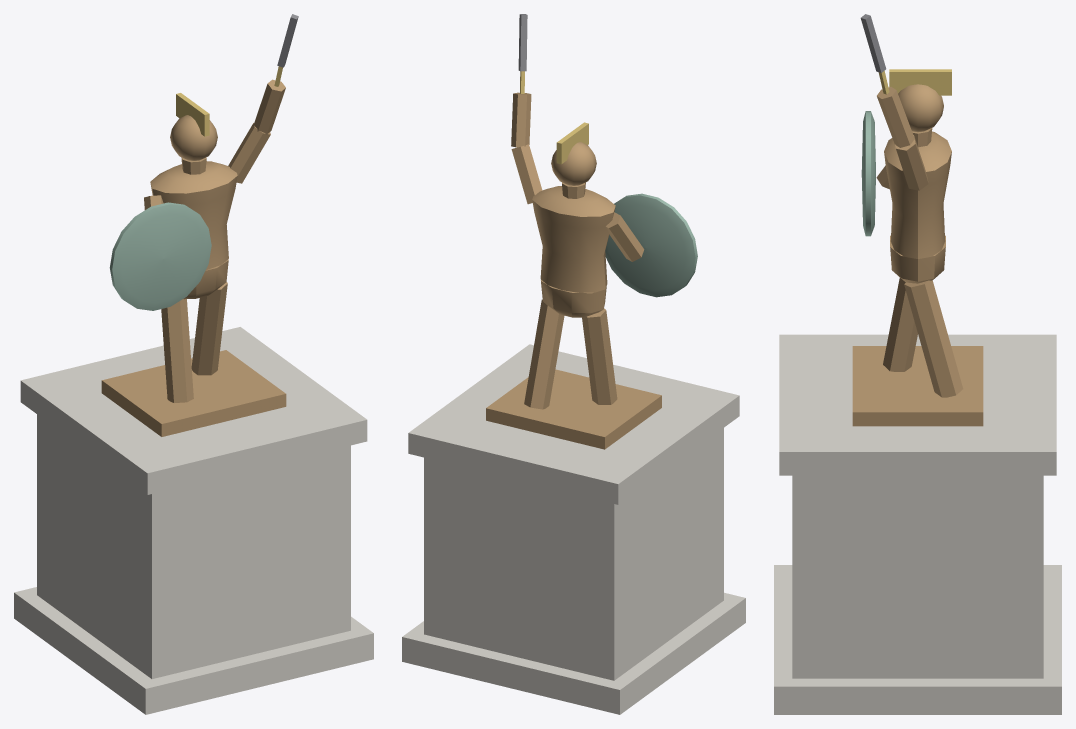
Rendered from statue_plinth.glb.
The picture shows the model from 3 angles, left to right: view 1: azimuth 30°, elevation 25°; view 2: azimuth 150°, elevation 25°; view 3: azimuth 270°, elevation 25°; orthographic projection. The views are drawn at different scales.
Parts seen in each view (by area): view 1: OUT; view 2: OUT; view 3: OUT.
Part boxes in pixels (bbox=[...]): OUT: bbox=[14, 14, 373, 714]; OUT: bbox=[402, 14, 745, 714]; OUT: bbox=[774, 14, 1061, 714].
Size of the model in its own units: 1.1 by 2.86 by 1.1.
